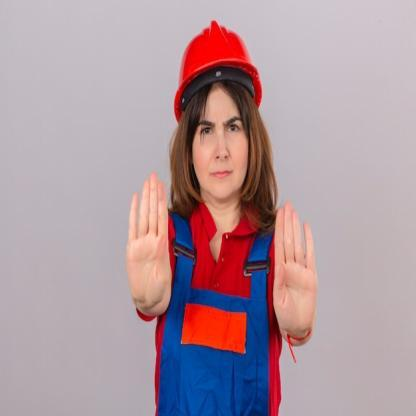stop: (126, 169, 174, 313), (272, 197, 320, 341)
